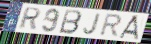9: (41, 8, 61, 34)
A: (118, 14, 140, 41)
B: (58, 8, 83, 35)
J: (83, 12, 103, 35)
R: (98, 13, 123, 38), (17, 6, 43, 30)
